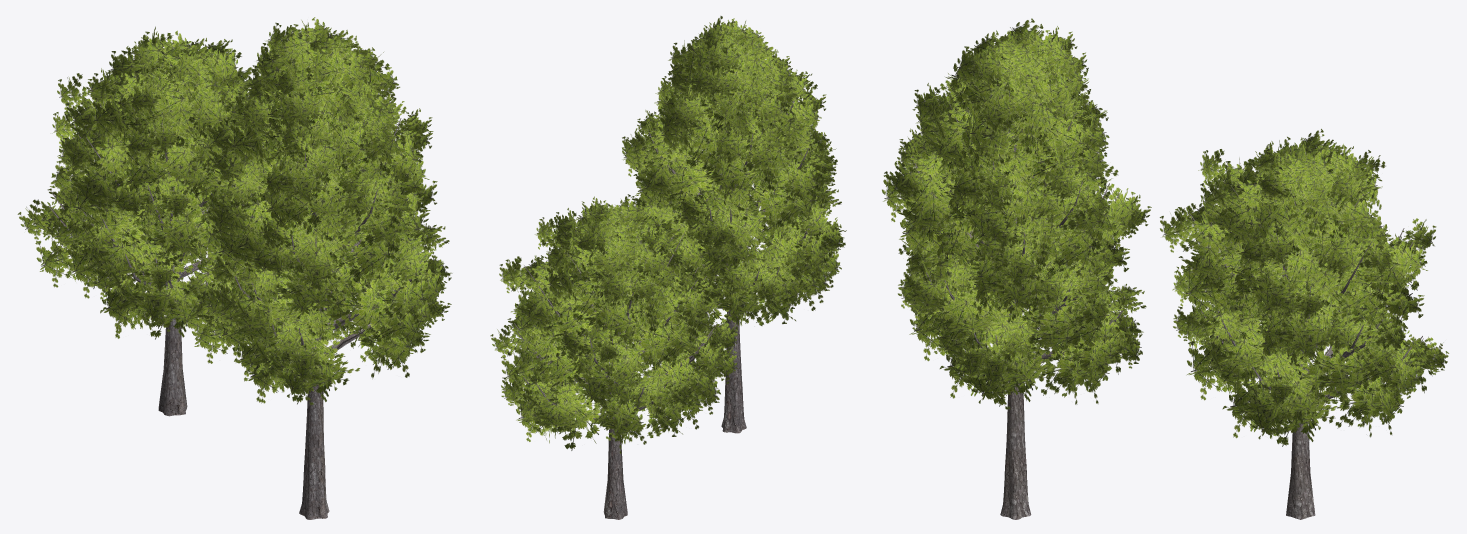
The model's file is trees.glb.
3 renders of one model, left to right at view 1: azimuth 30°, elevation 25°; view 2: azimuth 150°, elevation 25°; view 3: azimuth 270°, elevation 25°, orthographic. The views are drawn at different scales.
Visible parts, largest first — view 1: tree4, tree6; view 2: tree6, tree4; view 3: tree4, tree6.
Boxes of the visible parts, bbox=[...] form: tree4: bbox=[177, 17, 452, 519]; tree6: bbox=[17, 26, 311, 416]; tree6: bbox=[490, 194, 737, 519]; tree4: bbox=[622, 16, 846, 433]; tree4: bbox=[882, 18, 1151, 519]; tree6: bbox=[1159, 129, 1448, 519].
Size of the model in its own units: 580 by 1036 by 1100.
Materials: 2 (2 with a texture image).
